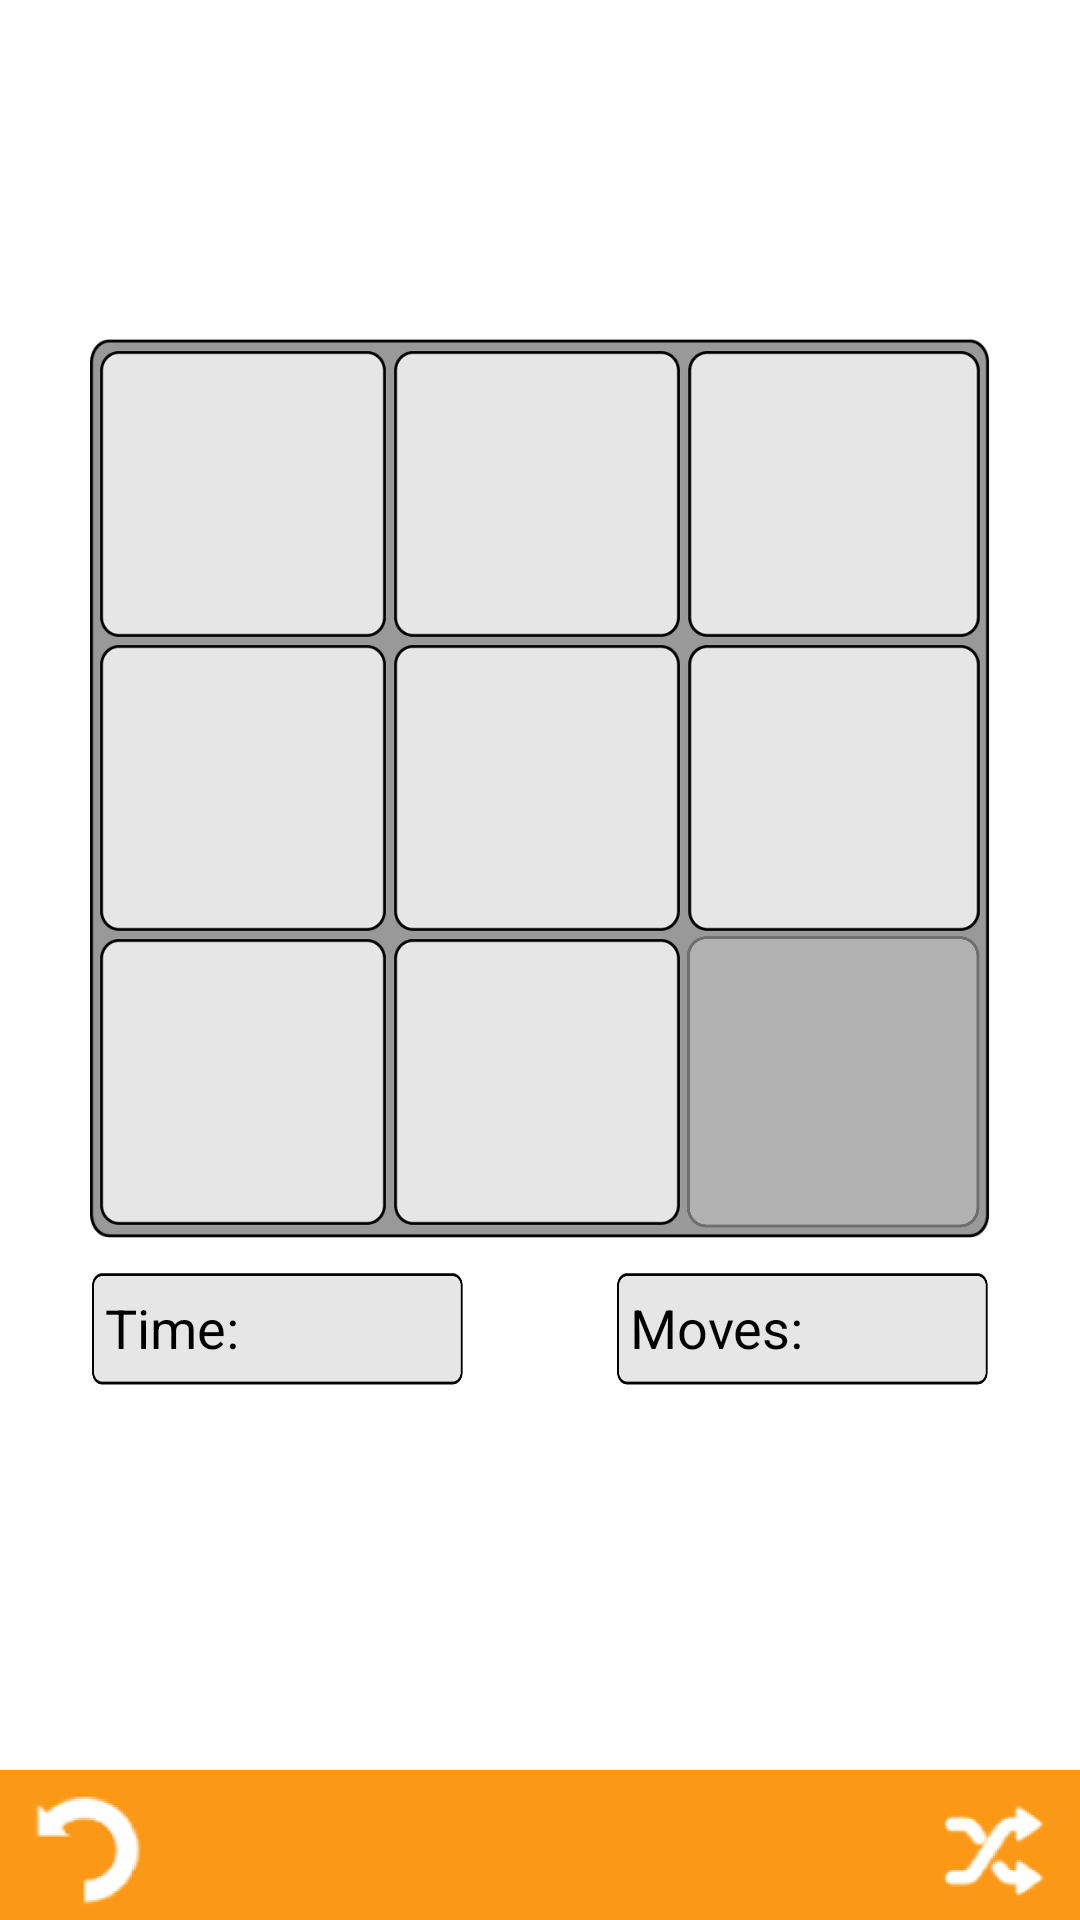

Named icons in this screenshot (1080 × 1920) and their centers, (x=x, y=y):
shuffle: (x=994, y=1851)
undo: (x=88, y=1850)
